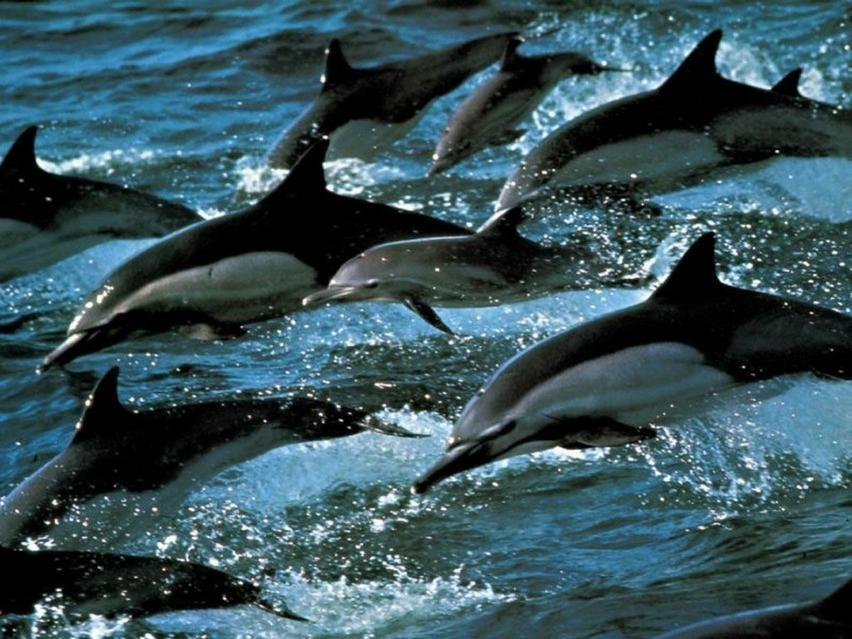fish: (412, 237, 852, 499), (49, 155, 509, 357), (491, 28, 852, 215), (265, 11, 528, 171), (309, 200, 588, 313), (425, 32, 636, 180)
